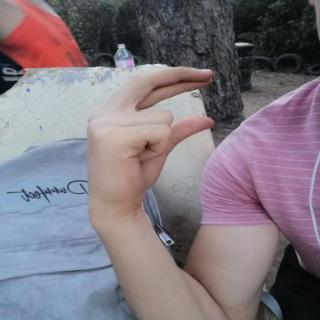DHELL: (80, 59, 225, 211)
